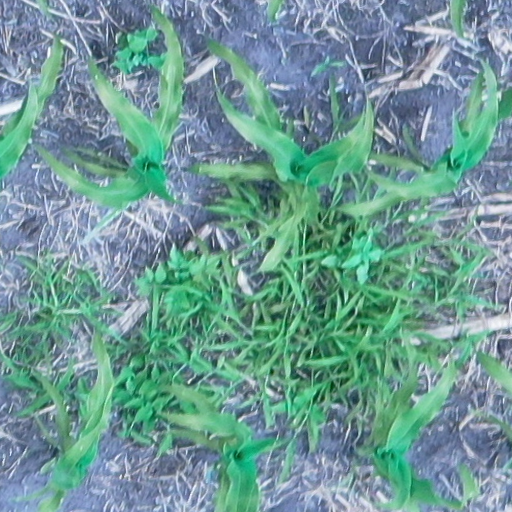planta: (186, 39, 374, 273), (36, 2, 184, 244), (329, 58, 501, 216)
